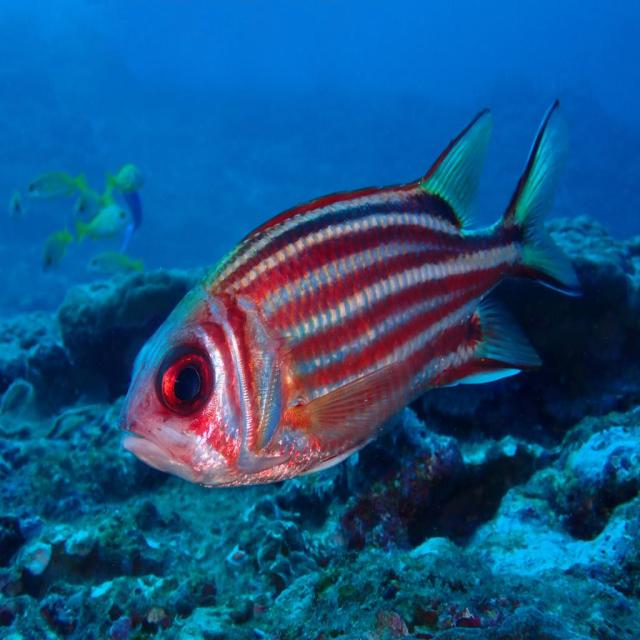Asker Baligi: (116, 96, 584, 489)
